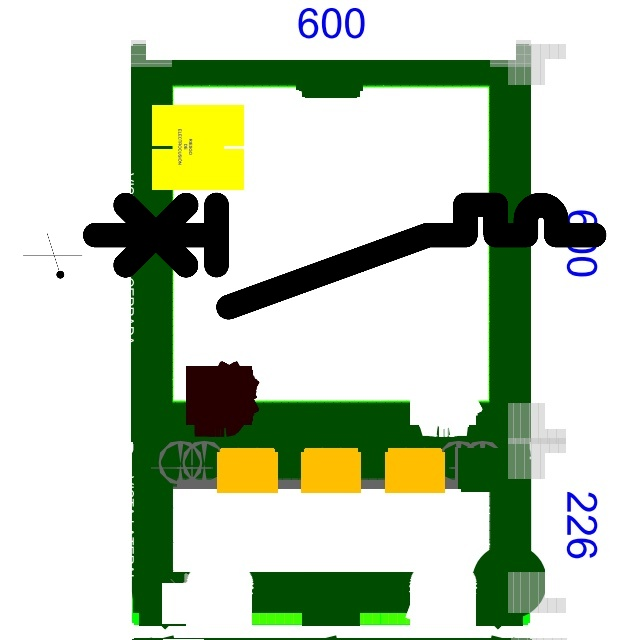interruptor_termomagnetico: (82, 192, 606, 320)
